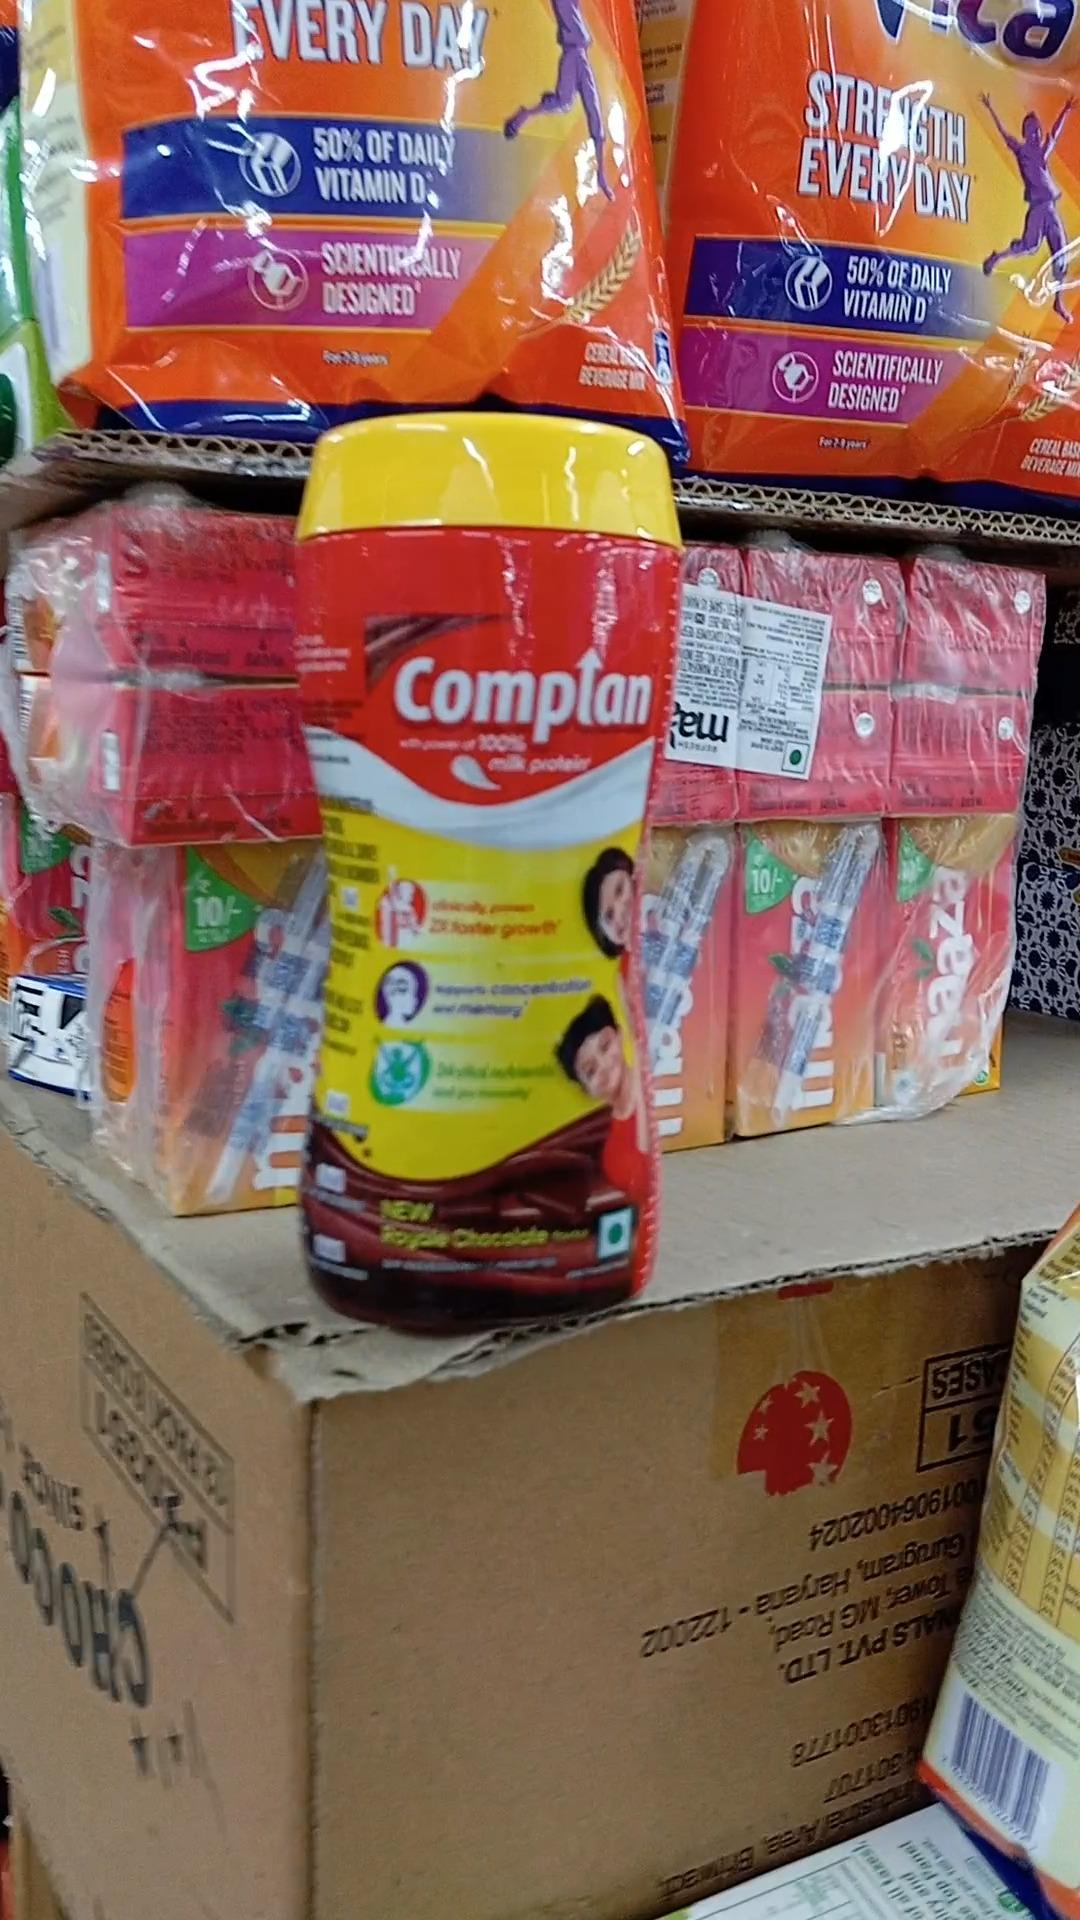COMPLAN_CHOCOLATE_200_GMS_JAR: (297, 418, 654, 1316)
